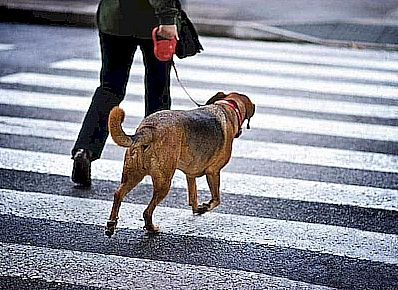kopek: (103, 85, 269, 233)
